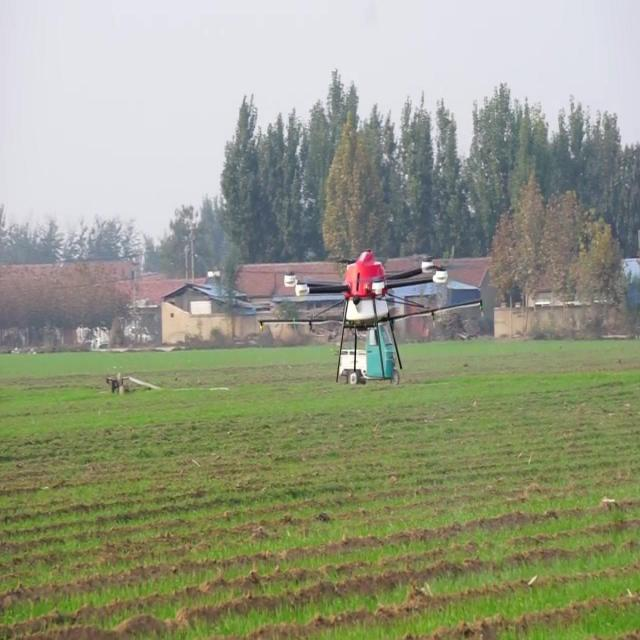UAV: (257, 247, 483, 384)
